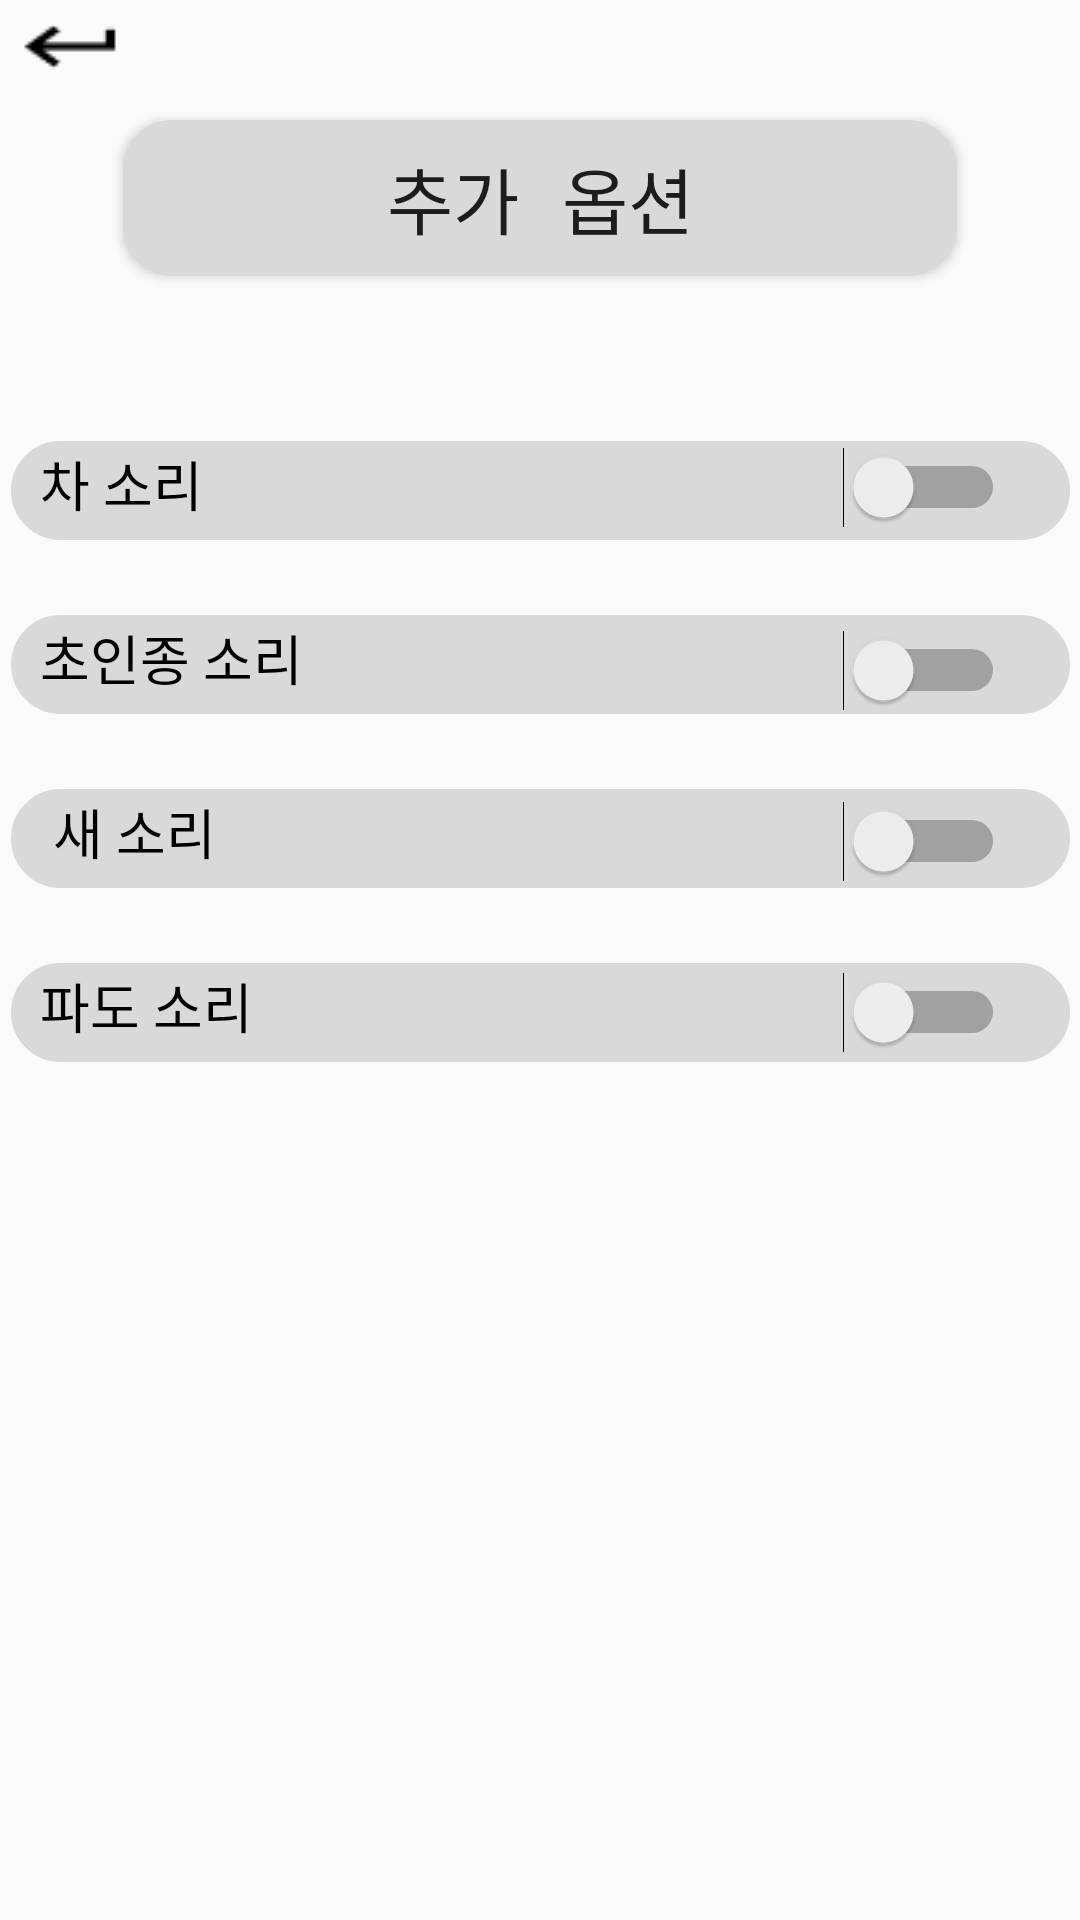

Named icons in this screenshot (1080w x 1920h) and their centers, (x=x, y=y):
keyboard return: (x=70, y=47)
